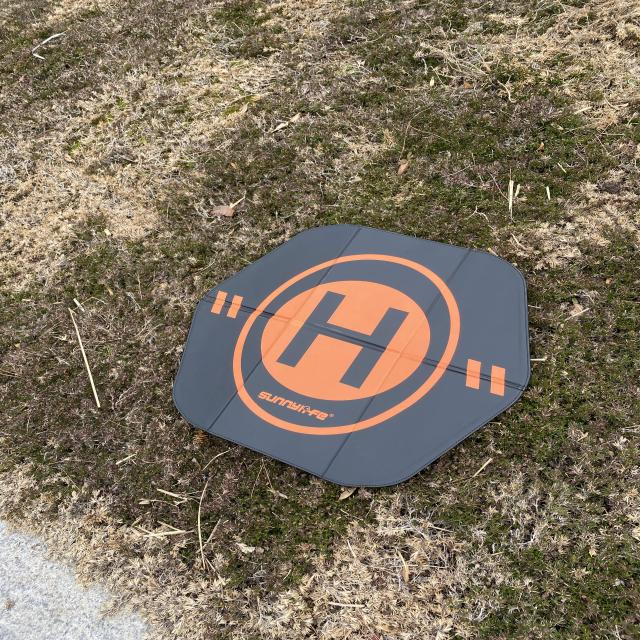helipad: (227, 247, 465, 443)
